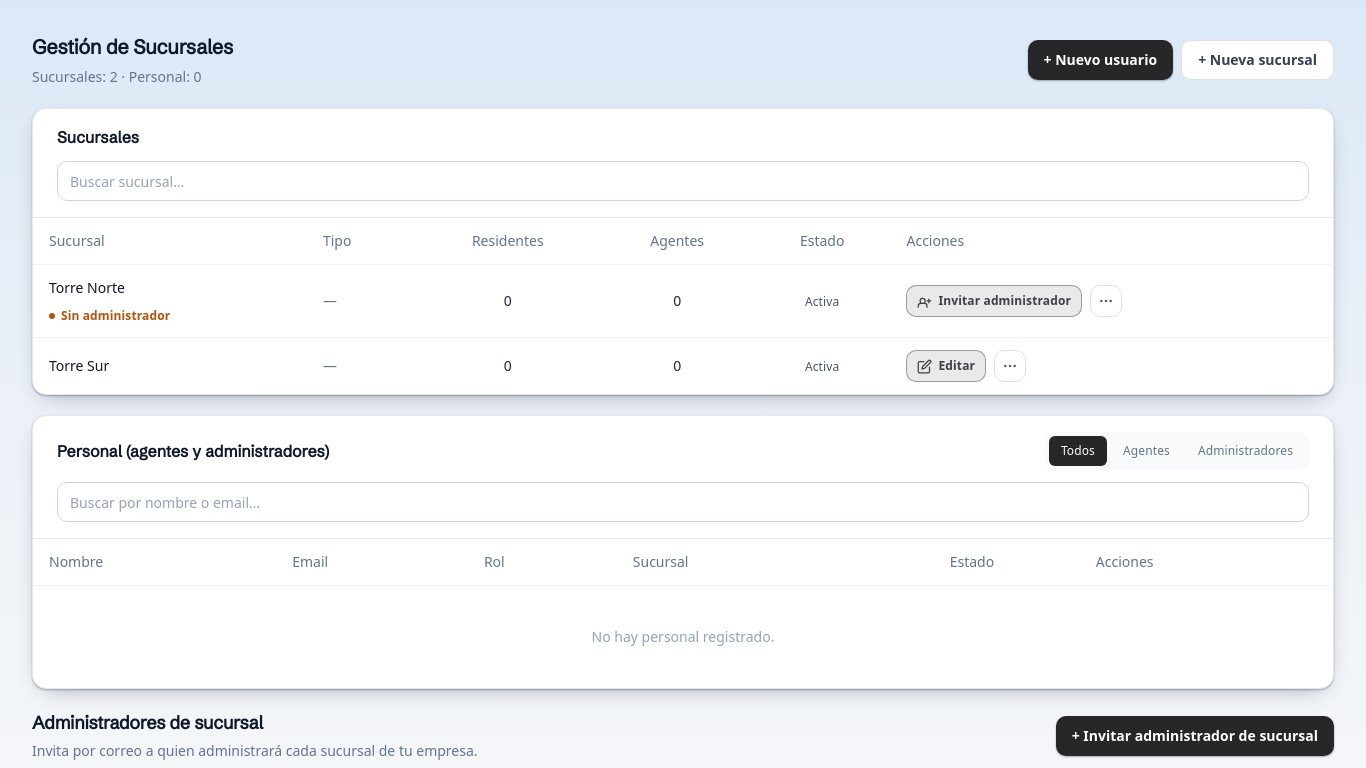
GestionSucursales — bienvenida, siguiente paso y contraseña › marca la sucursal sin administrador y ofrece invitarlo
The image size is (1366, 768).
expect the text "Torre Norte" is shown: met, box [49,278,125,297]
expect the text "Sin administrador" is shown once: met, box [49,307,170,325]
Click the button "Invitar administrador" at (994, 301), box [906,285,1082,317]
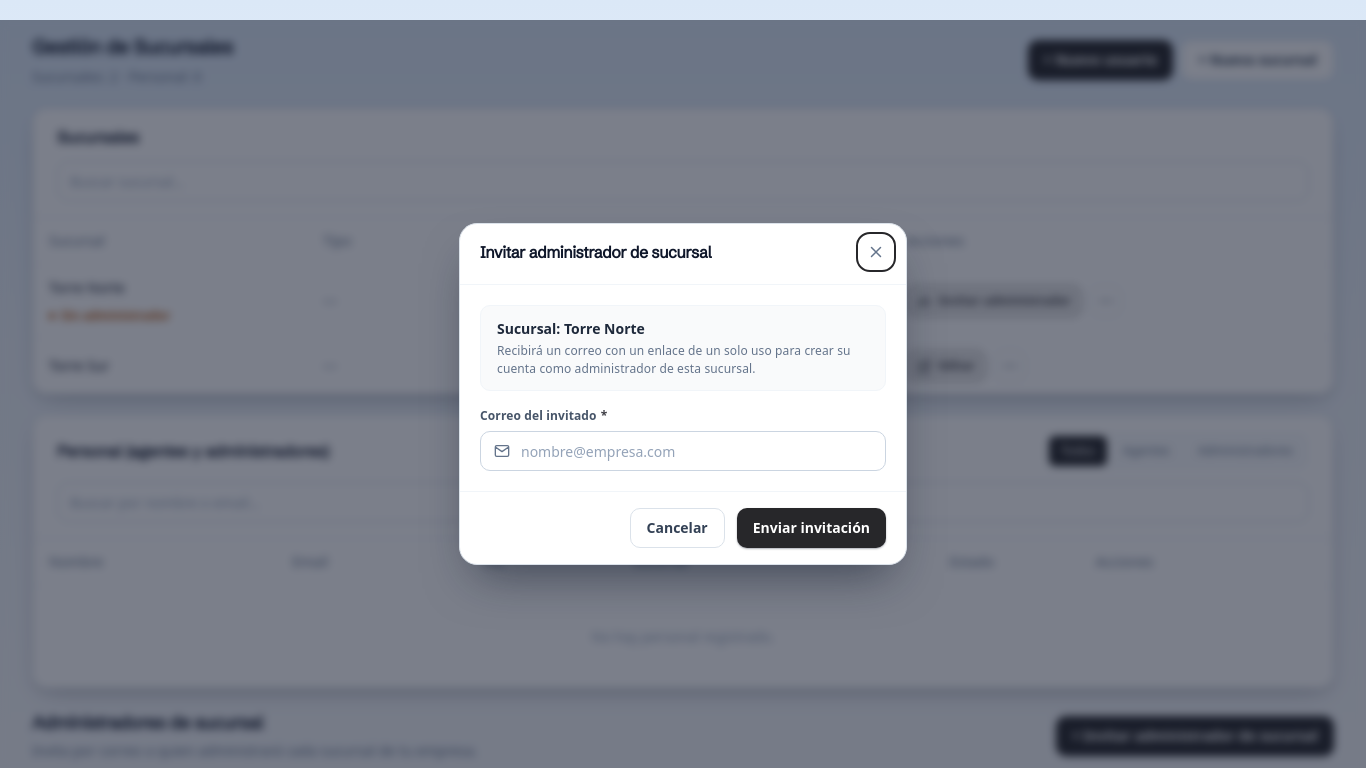
expect the text "Sucursal: Torre Norte" is shown: met, box [497,319,645,338]
